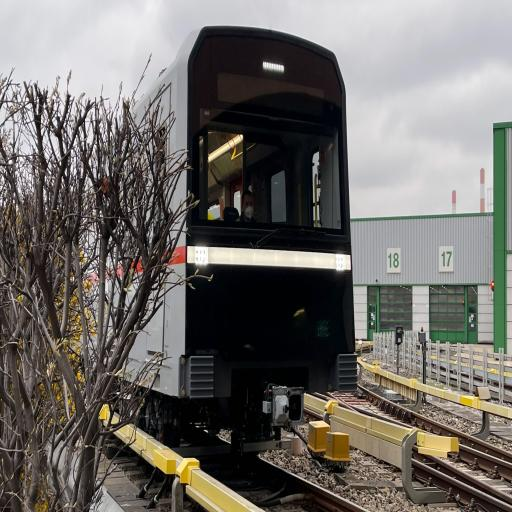X-Wagen: (108, 22, 358, 452)
